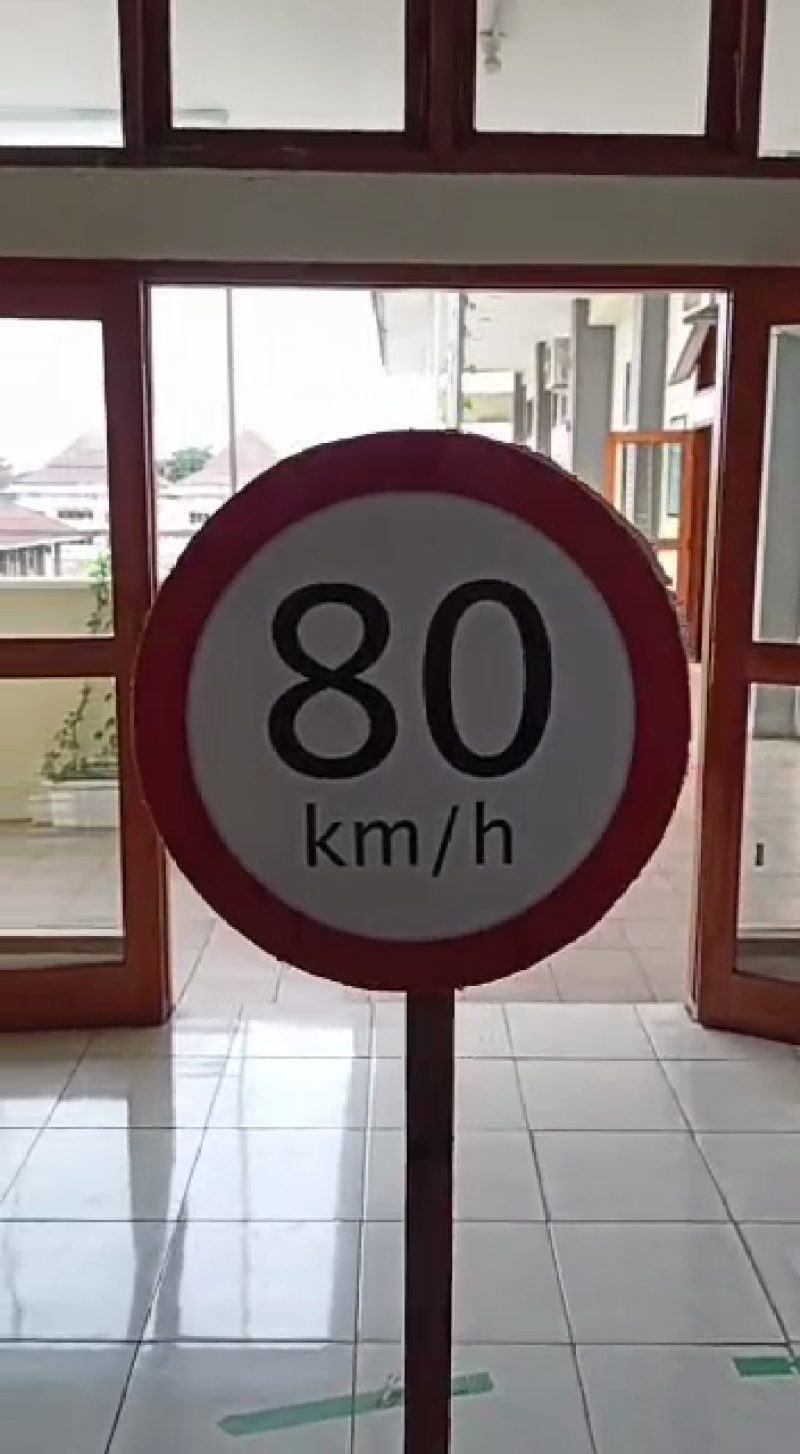batas maksimal 80kmperjam: (102, 403, 704, 1003)
